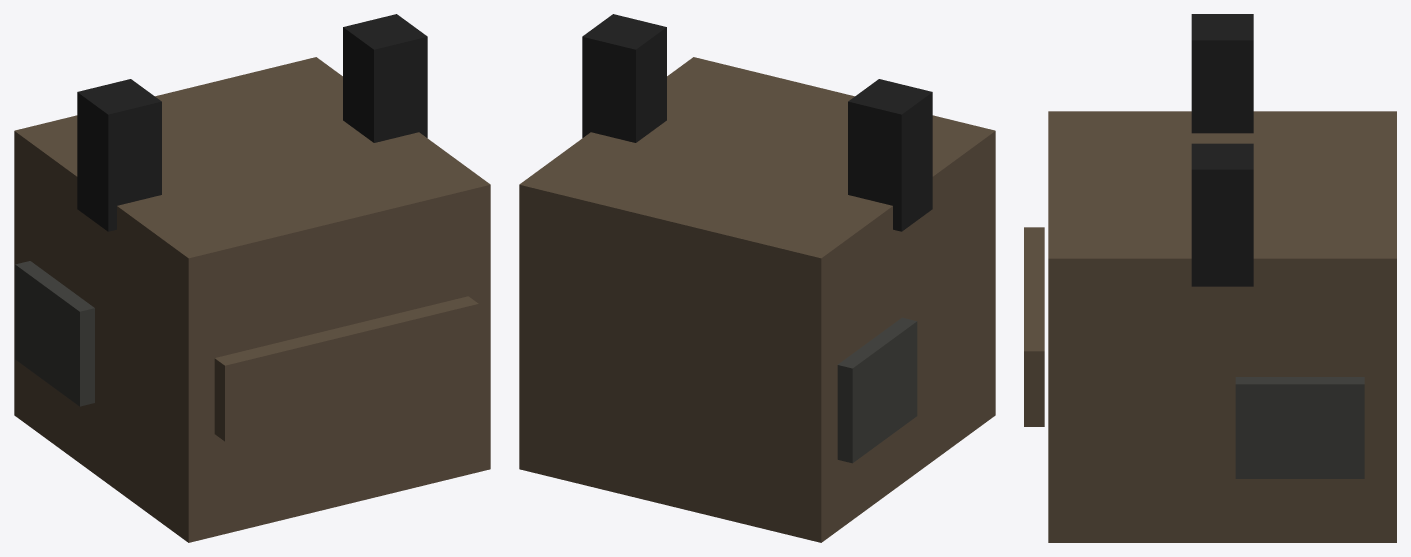
File: head_iron.obj
3 renders of one model, left to right at view 1: azimuth 30°, elevation 25°; view 2: azimuth 150°, elevation 25°; view 3: azimuth 270°, elevation 25°, orthographic.
Bounding box in the file's own units: 0.7425 × 0.8068 × 0.722.
